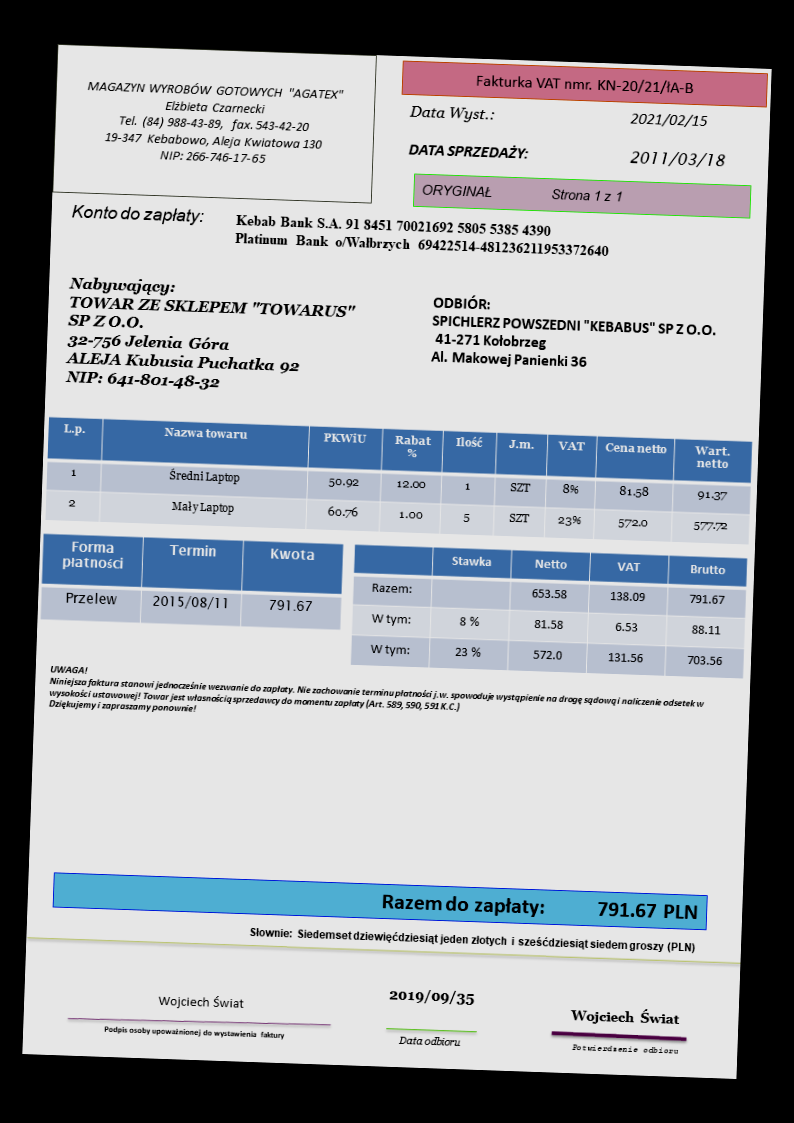Table: (43, 413, 753, 546), (347, 544, 749, 681), (39, 532, 345, 633)
TextBox: (46, 661, 707, 733), (63, 274, 357, 399), (427, 292, 723, 375), (81, 78, 349, 169), (231, 209, 611, 262), (244, 921, 698, 956), (376, 887, 700, 925), (470, 70, 698, 97), (420, 179, 629, 206), (66, 200, 207, 226), (100, 1023, 289, 1042), (405, 138, 529, 165), (564, 1004, 684, 1029), (627, 145, 728, 170), (384, 985, 478, 1008), (629, 105, 709, 132), (406, 101, 499, 124), (153, 989, 246, 1012), (568, 1040, 681, 1057), (396, 1030, 463, 1050)
